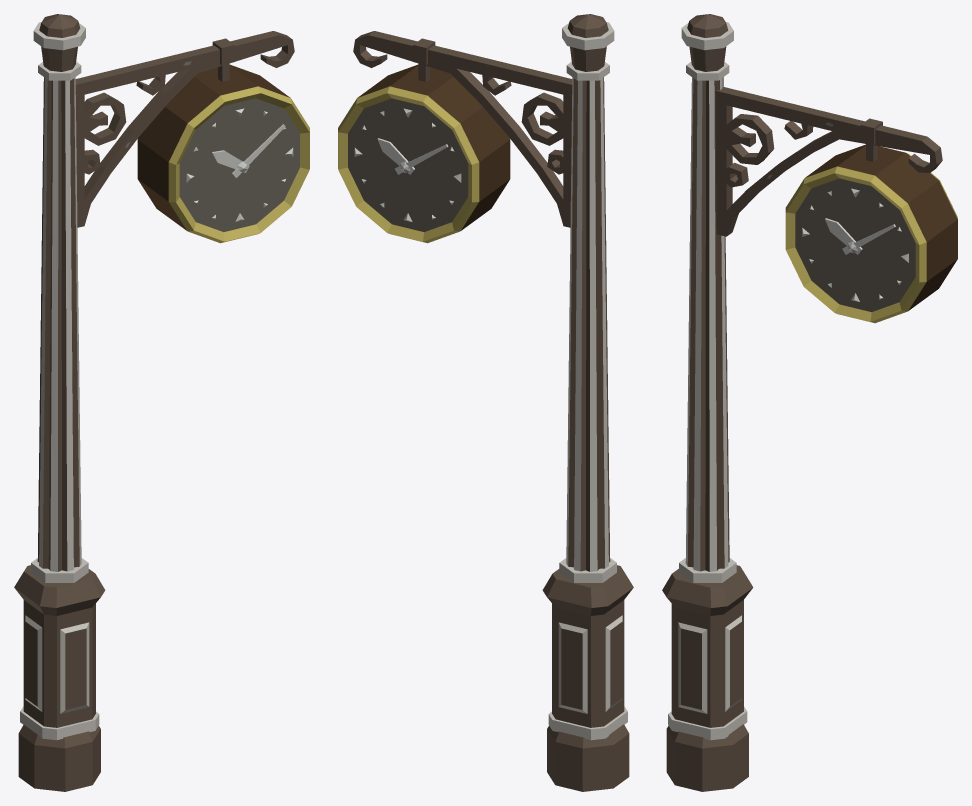
The model's file is stage3_station_clock_post.glb.
3 renders of one model, left to right at view 1: azimuth 30°, elevation 25°; view 2: azimuth 150°, elevation 25°; view 3: azimuth 330°, elevation 25°, orthographic.
Visible parts, largest first — view 1: clock-post, brass; view 2: clock-post, brass; view 3: clock-post, brass.
Boxes of the visible parts, left/top/right/bottom form: clock-post: left=14, top=14, right=299, bottom=791; brass: left=168, top=86, right=309, bottom=243; clock-post: left=348, top=14, right=633, bottom=791; brass: left=338, top=86, right=479, bottom=243; clock-post: left=662, top=14, right=957, bottom=791; brass: left=785, top=153, right=957, bottom=323.
Bounding box in the file's own units: 1.29 × 3.5 × 0.346.
